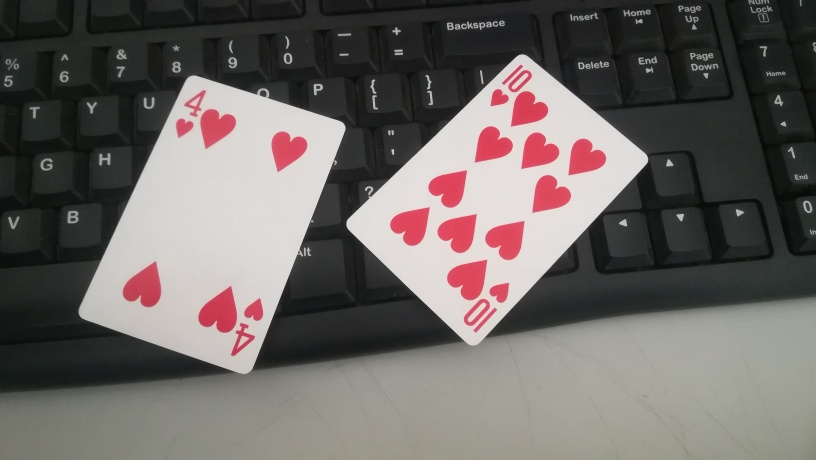hx 10: (349, 18, 654, 373)
hx 4: (72, 41, 344, 403)
